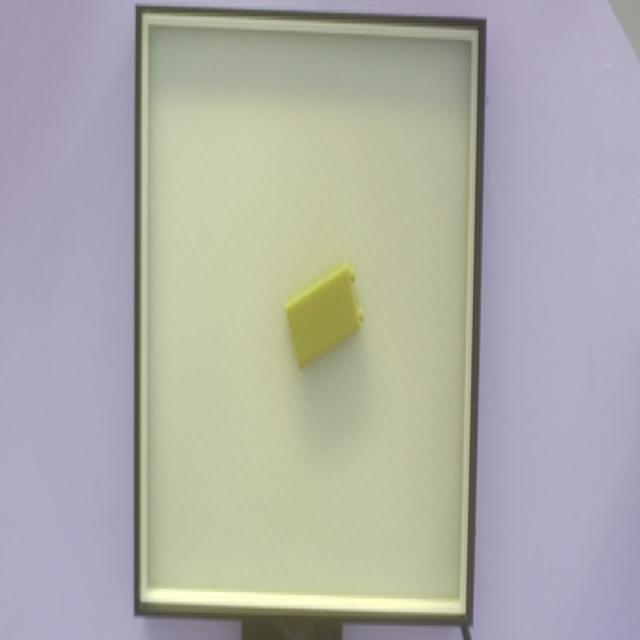bateria: (282, 263, 366, 374)
mesa: (133, 6, 487, 627)
